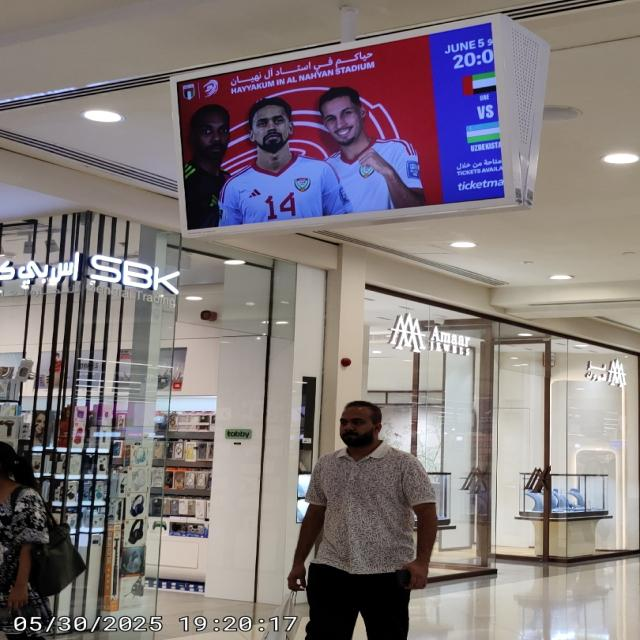digital-board: (174, 16, 519, 238)
